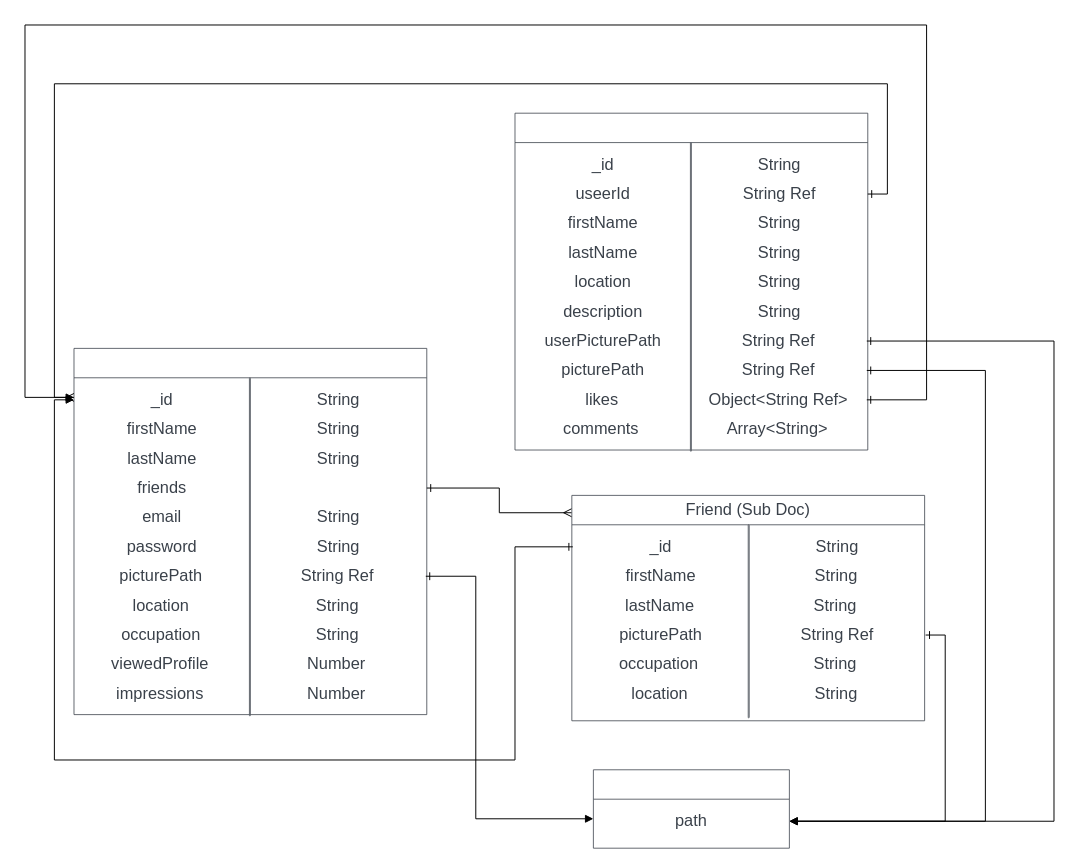
This 1080x865 diagram has some shape labels left out. Each missing label, with the box of its shape:
Array<Object>: (250, 465, 427, 510)
Images: (593, 769, 789, 848)
Post: (514, 112, 868, 450)
User: (73, 348, 427, 715)
